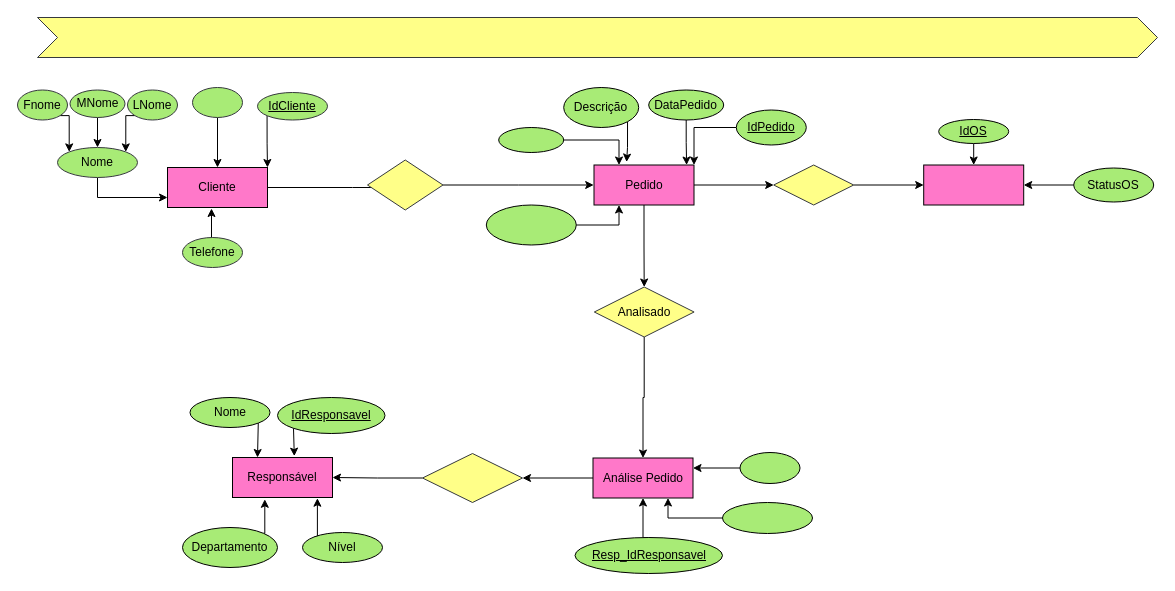
The diagram is 1175 pixels wide and 591 high, and some of its shapes have lost their labels. The box of each missing label's shape, as (x1, y1, x2, y2) in pixels:
Cpf: (192, 86, 242, 118)
Encaminhado: (422, 452, 522, 502)
Gera: (773, 164, 854, 205)
Liberado: (739, 452, 800, 484)
Modelo ER - ORDEM DE SERVIÇO: (36, 16, 1158, 58)
Numero: (498, 126, 564, 152)
OrdemServiço: (923, 164, 1024, 205)
Ped_IdPedido: (722, 502, 812, 534)
Solicita: (366, 159, 443, 210)
StatusPedido: (485, 204, 576, 245)
